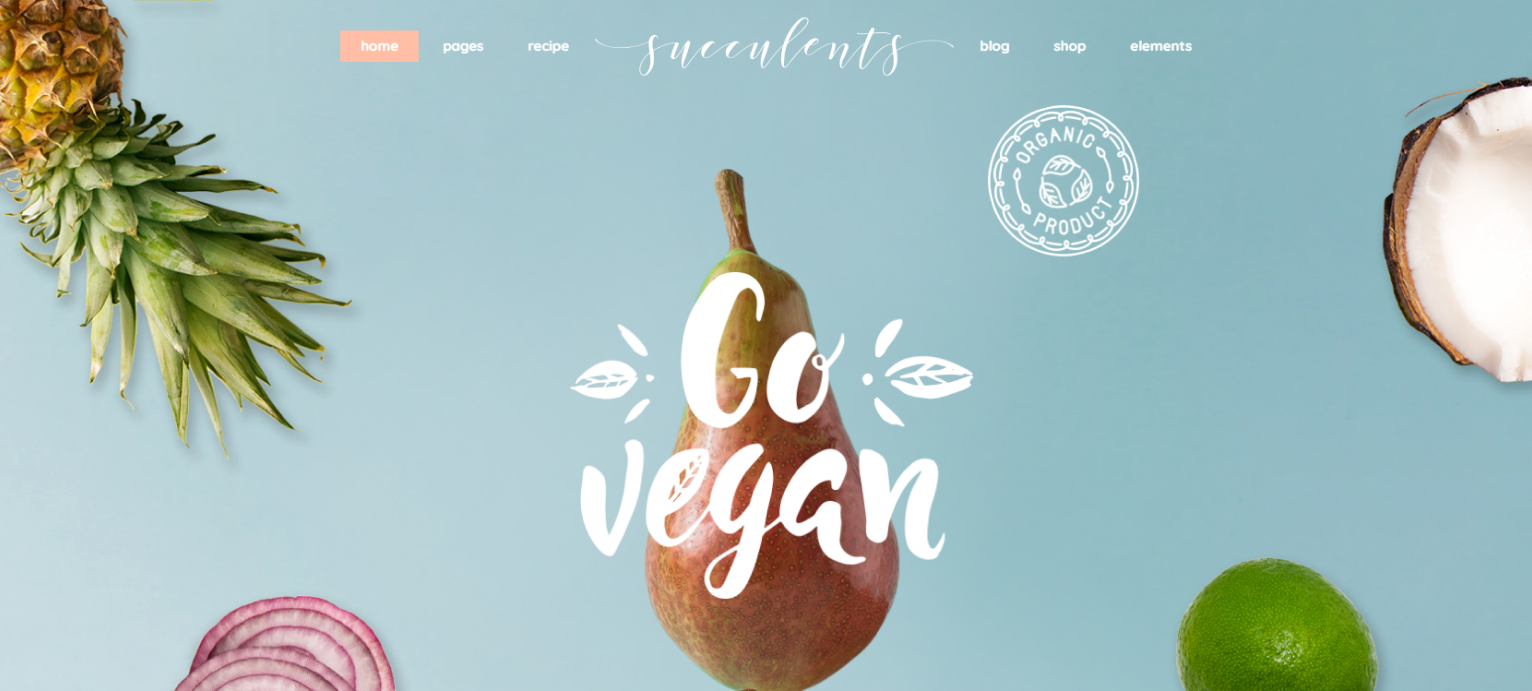menu-bar: (12, 12, 1526, 265)
